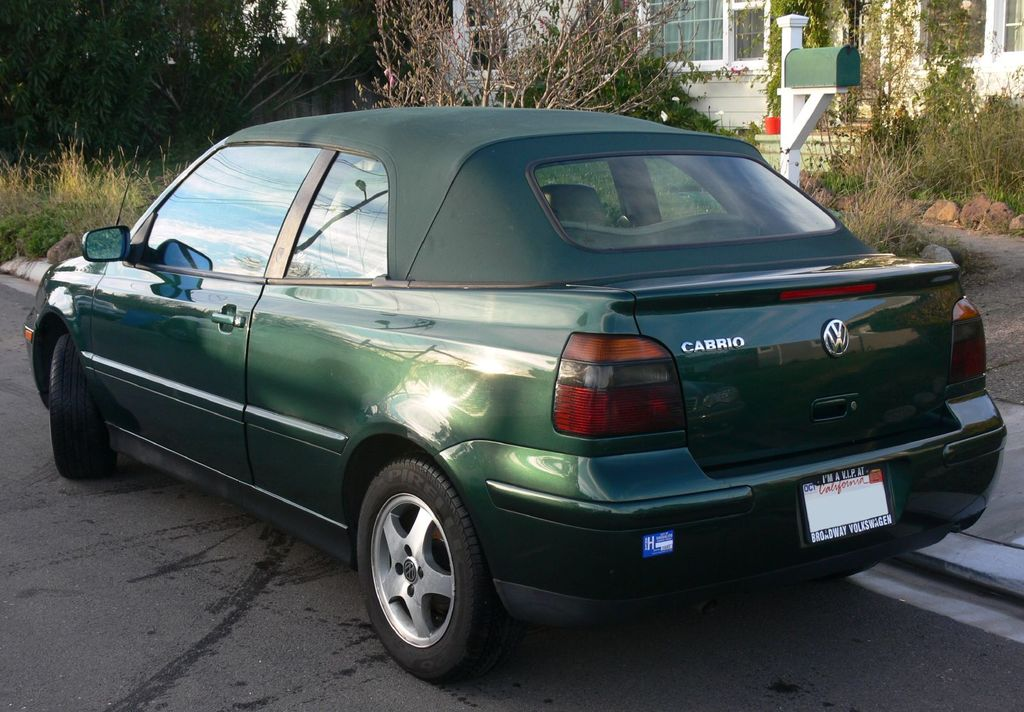cars: (22, 107, 1000, 681)
